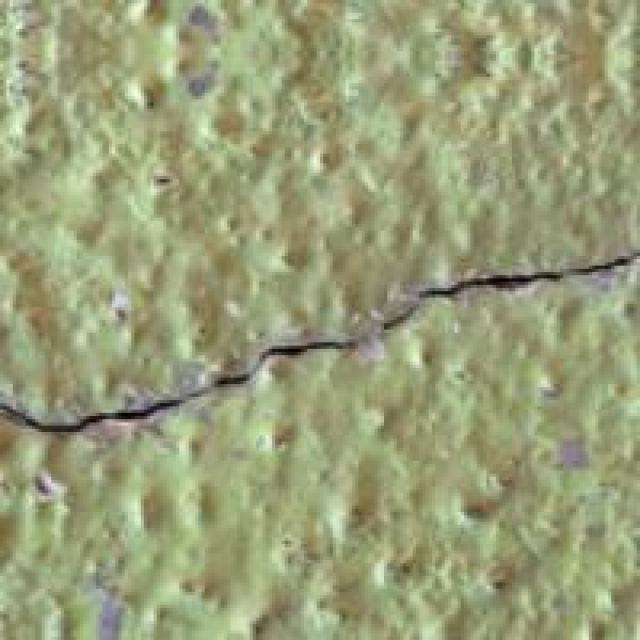crack: (3, 208, 637, 496)
